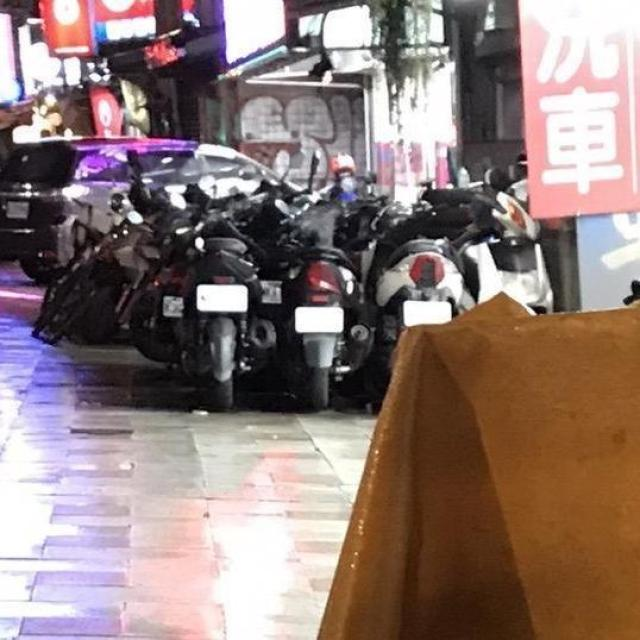W: (192, 277, 252, 315), (289, 300, 347, 336), (401, 299, 452, 327)
